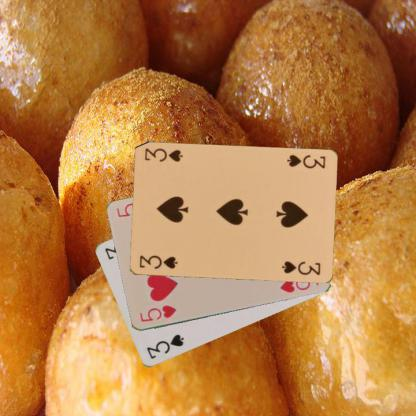3s: (144, 332, 185, 361), (136, 252, 178, 271), (284, 152, 326, 170)
5h: (136, 302, 178, 324)
